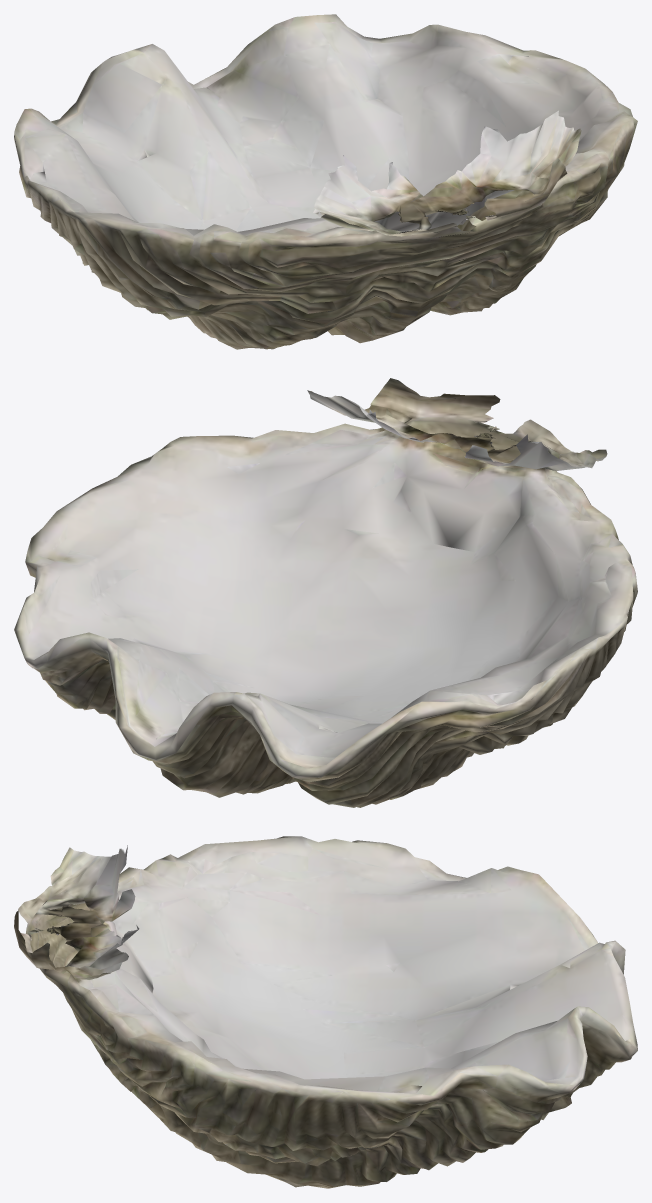
The model's file is clam-bottom-phone.glb.
3 renders of one model, top to bottom at view 1: azimuth 30°, elevation 25°; view 2: azimuth 150°, elevation 25°; view 3: azimuth 270°, elevation 25°, orthographic. The views are drawn at different scales.
Parts seen in each view (by area): view 1: Model; view 2: Model; view 3: Model.
Part boxes in pixels (<box>): Model: <box>14,14,637,349</box>; Model: <box>14,378,637,807</box>; Model: <box>14,836,637,1188</box>.
Bounding box in the file's own units: 1.83 × 0.8812 × 1.9.
1 material, 1 textured.
